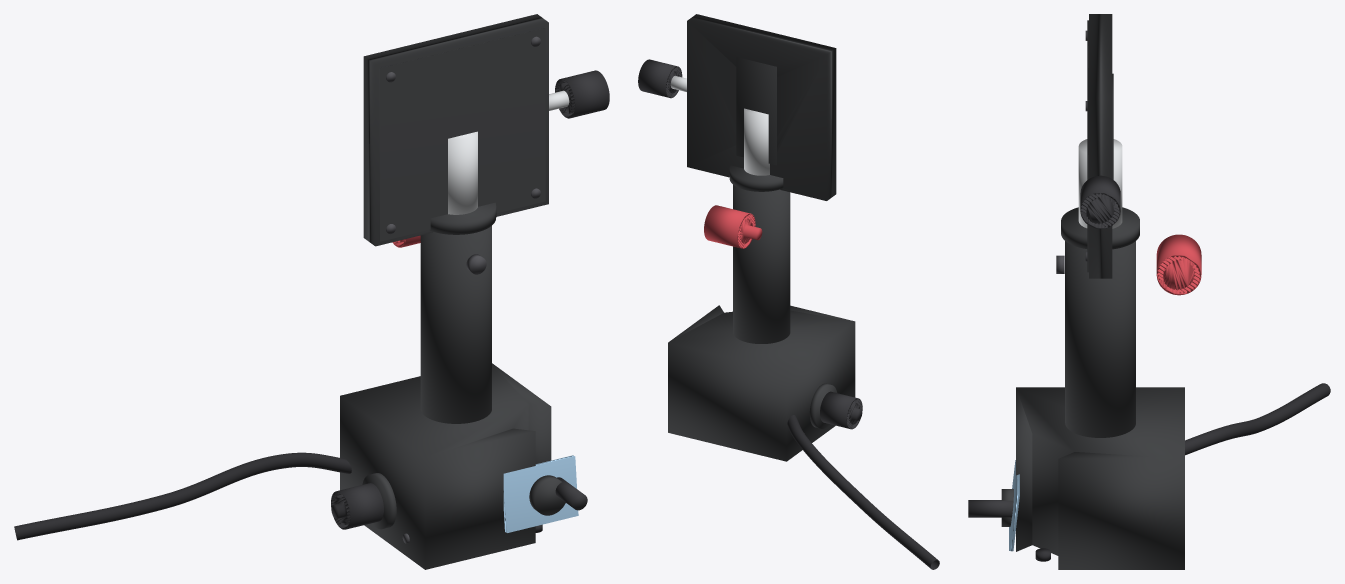
Rendered from slit.glb.
3 views of the same model, side by side, from view 1: azimuth 30°, elevation 25°; view 2: azimuth 150°, elevation 25°; view 3: azimuth 270°, elevation 25° (orthographic). The views are drawn at different scales.
Parts seen in each view (by area): view 1: Slit_Base, FrontTrim, Slit_Post, Slit_Plate, Slit_Cable, FrontBluePlate, Slit_Rod, SideAdjustmentKnob, SideAdjustKnob, Slit_TopCollar, FrontKnobBase, SideAdjustmentPlate; view 2: Slit_Base, Slit_Plate, Slit_Post, OpticalSlit_housing, Slit_Cable, PostRedLockKnob, Slit_Rod, SideAdjustmentKnob, SideAdjustKnob, Slit_TopCollar, SideAdjustmentPlate; view 3: Slit_Base, Slit_Post, Slit_Plate, PostRedLockKnob, Slit_Cable, SideAdjustKnob, Slit_TopCollar, Slit_Rod, FrontHandle, FrontBluePlate.
Boxes of the visible parts, left/top/right/bottom form: Slit_Base: left=340, top=363, right=551, bottom=569; FrontTrim: left=379, top=28, right=545, bottom=241; Slit_Post: left=420, top=226, right=491, bottom=423; Slit_Plate: left=363, top=14, right=548, bottom=246; Slit_Cable: left=14, top=452, right=351, bottom=540; FrontBluePlate: left=503, top=455, right=578, bottom=532; Slit_Rod: left=448, top=131, right=477, bottom=214; SideAdjustmentKnob: left=331, top=483, right=383, bottom=529; SideAdjustKnob: left=555, top=70, right=609, bottom=118; Slit_TopCollar: left=429, top=202, right=496, bottom=234; FrontKnobBase: left=529, top=475, right=565, bottom=515; SideAdjustmentPlate: left=362, top=473, right=396, bottom=529; Slit_Base: left=668, top=305, right=855, bottom=461; Slit_Plate: left=687, top=14, right=836, bottom=200; Slit_Post: left=733, top=184, right=790, bottom=343; OpticalSlit_housing: left=736, top=57, right=776, bottom=165; Slit_Cable: left=787, top=415, right=939, bottom=569; PostRedLockKnob: left=704, top=205, right=762, bottom=248; Slit_Rod: left=744, top=108, right=769, bottom=175; SideAdjustmentKnob: left=820, top=391, right=862, bottom=429; SideAdjustKnob: left=638, top=59, right=682, bottom=98; Slit_TopCollar: left=729, top=165, right=783, bottom=191; SideAdjustmentPlate: left=809, top=383, right=837, bottom=428; Slit_Base: left=1016, top=387, right=1184, bottom=569; Slit_Post: left=1065, top=241, right=1135, bottom=437; Slit_Plate: left=1089, top=14, right=1112, bottom=278; PostRedLockKnob: left=1156, top=234, right=1201, bottom=295; Slit_Cable: left=1185, top=383, right=1330, bottom=455; SideAdjustKnob: left=1080, top=175, right=1120, bottom=228; Slit_TopCollar: left=1061, top=207, right=1139, bottom=249; Slit_Rod: left=1078, top=139, right=1122, bottom=228; FrontHandle: left=968, top=500, right=1013, bottom=517; FrontBluePlate: left=1009, top=460, right=1019, bottom=551.
Size of the model in its own units: 0.1994 by 0.2021 by 0.1329.
